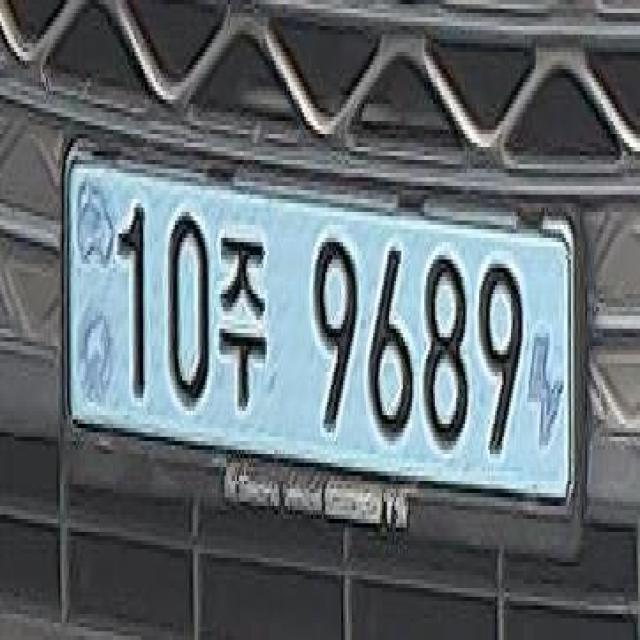EV_plate: (65, 126, 590, 563)
